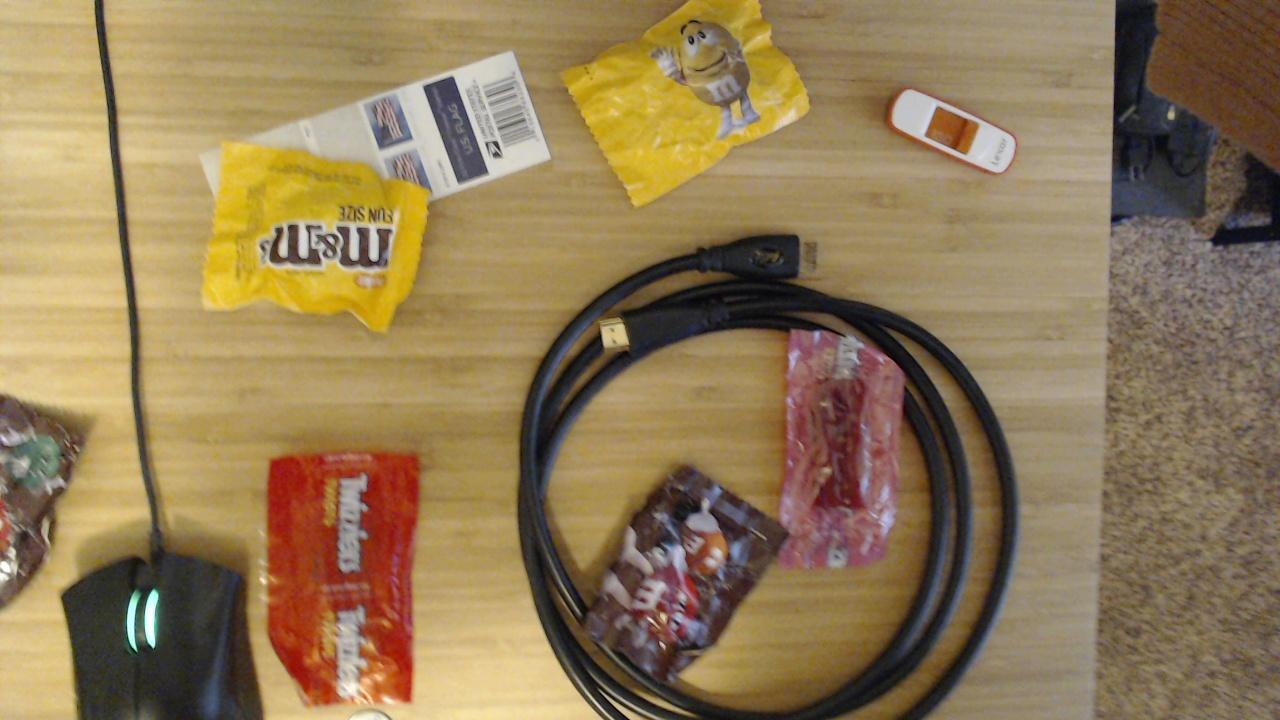MM_yellow: (560, 1, 805, 209), (201, 142, 431, 329)
airheads: (775, 318, 911, 575)
milky_way: (580, 463, 787, 687)
twizzlers: (263, 450, 418, 706)
